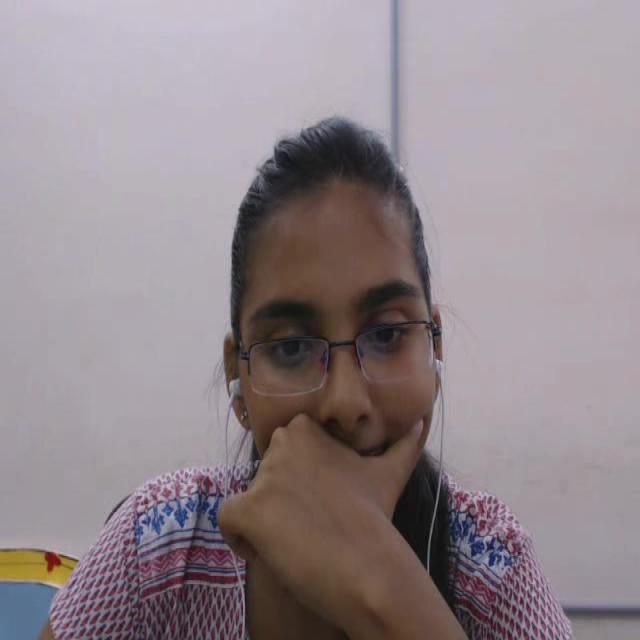Bored: (189, 110, 504, 561)
